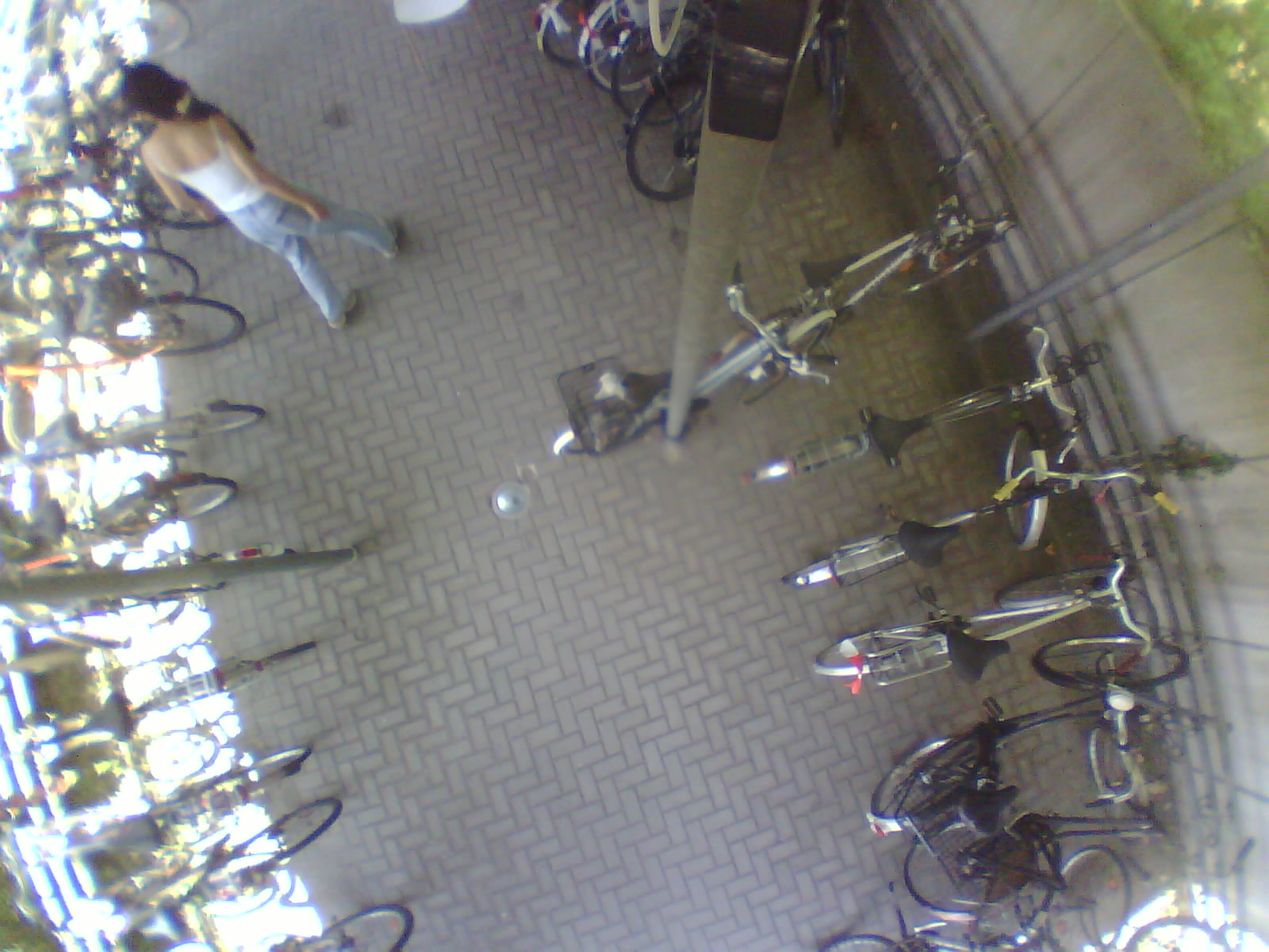bicylce: (870, 638, 1184, 844), (719, 214, 1006, 406), (616, 0, 877, 202), (17, 801, 347, 952), (554, 297, 839, 468), (824, 551, 1130, 707), (0, 616, 329, 756), (751, 336, 1049, 487), (785, 425, 1063, 582), (0, 722, 313, 858), (0, 380, 284, 487), (0, 458, 259, 571), (0, 292, 252, 400), (5, 543, 306, 620), (0, 239, 199, 306)
saddle: (73, 692, 143, 750), (863, 404, 938, 453), (959, 778, 1022, 831), (134, 900, 198, 952), (941, 633, 1010, 678), (893, 517, 962, 562), (25, 413, 92, 455), (0, 226, 59, 268), (93, 816, 163, 851), (797, 250, 855, 292), (30, 301, 81, 345), (15, 497, 70, 536), (622, 370, 671, 402), (42, 117, 79, 150)
